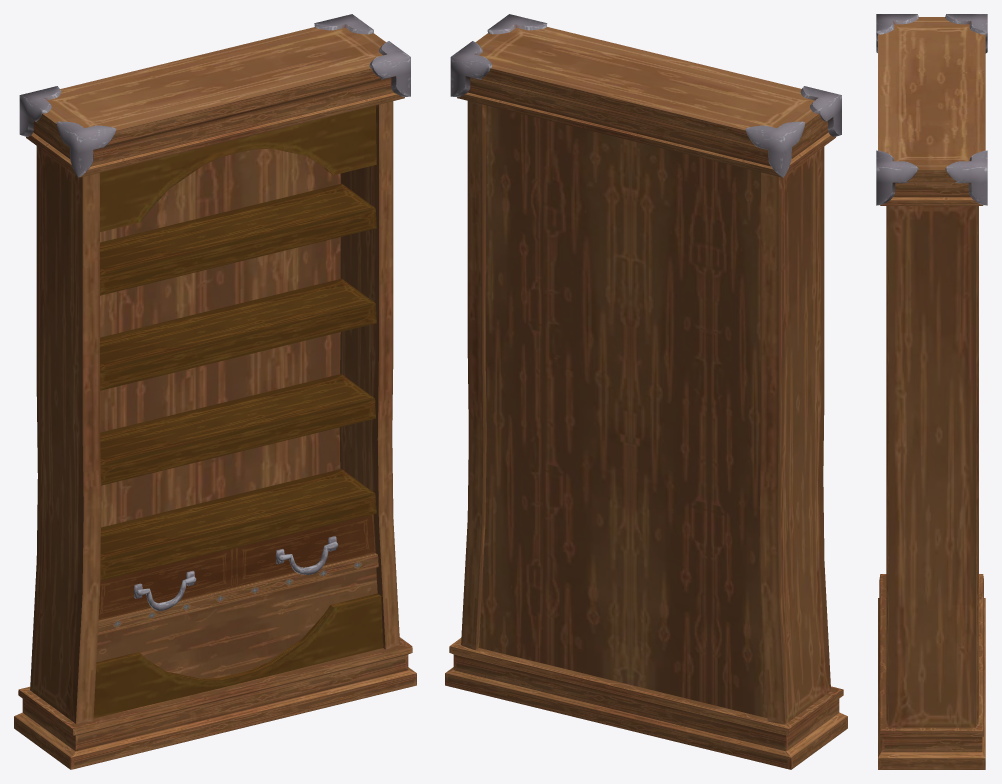
Rendered from prop_bookcase.glb.
3 views of the same model, side by side, from view 1: azimuth 30°, elevation 25°; view 2: azimuth 150°, elevation 25°; view 3: azimuth 270°, elevation 25° (orthographic). The views are drawn at different scales.
Visible parts, largest first — view 1: Bookcase_2; view 2: Bookcase_2; view 3: Bookcase_2.
Part boxes in pixels (x1,y1,x2,y2): Bookcase_2: [14, 14, 416, 769]; Bookcase_2: [445, 14, 847, 769]; Bookcase_2: [876, 14, 987, 769].
Size of the model in its own units: 1.46 by 2.54 by 0.429.
Materials: 2 (2 with a texture image).
